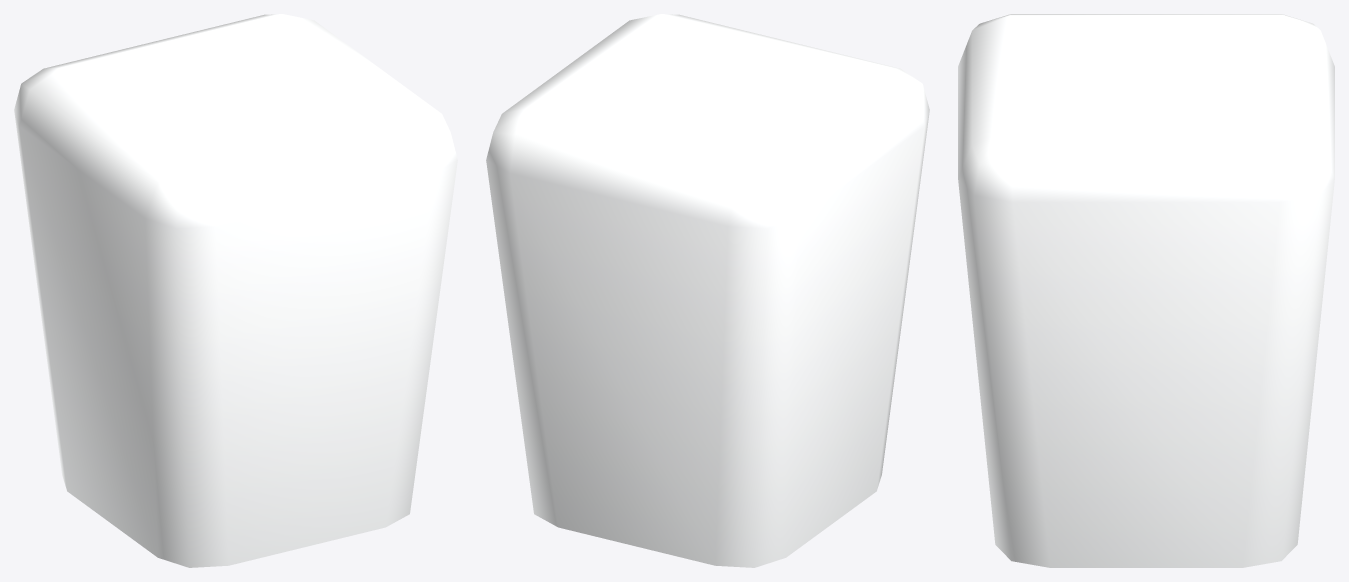
File: FencePillar_02.glb
3 views of the same model, side by side, from view 1: azimuth 30°, elevation 25°; view 2: azimuth 150°, elevation 25°; view 3: azimuth 270°, elevation 25° (orthographic). The views are drawn at different scales.
Parts seen in each view (by area): view 1: FencePillar_02; view 2: FencePillar_02; view 3: FencePillar_02.
Boxes of the visible parts, x1=… form: FencePillar_02: x1=14, y1=14, x2=457, y2=567; FencePillar_02: x1=486, y1=14, x2=929, y2=567; FencePillar_02: x1=958, y1=14, x2=1334, y2=567.
Size of the model in its own units: 0.4497 by 0.5675 by 0.4497.
Materials: 1 (1 with a texture image).
